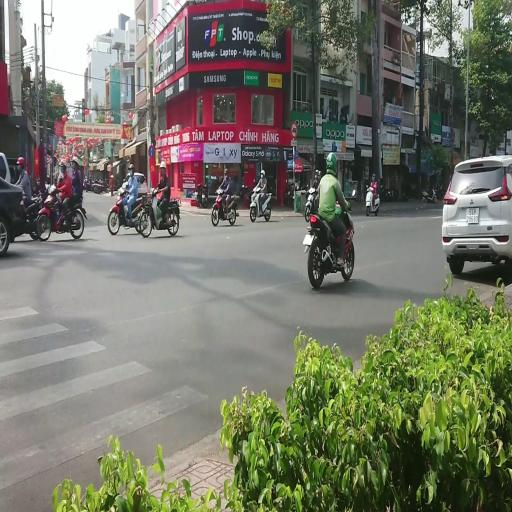bikes: (303, 195, 355, 288), (0, 181, 51, 255), (36, 184, 85, 240), (107, 184, 152, 236), (138, 188, 181, 237), (23, 190, 51, 240), (245, 185, 272, 222), (211, 188, 237, 226), (303, 187, 319, 222), (365, 184, 380, 216), (193, 182, 208, 208), (422, 187, 437, 203), (92, 178, 108, 193), (83, 176, 90, 192)
helmet: (326, 152, 337, 175), (58, 159, 67, 169), (314, 169, 322, 180), (16, 156, 25, 165), (71, 156, 79, 166), (48, 184, 56, 194), (128, 164, 134, 174), (160, 160, 166, 168), (58, 174, 64, 182), (36, 174, 40, 186), (118, 187, 124, 195), (83, 177, 88, 186), (216, 188, 223, 194), (373, 182, 378, 189), (352, 189, 356, 197), (260, 170, 265, 176), (371, 174, 376, 180), (224, 168, 228, 175), (46, 175, 50, 182), (315, 169, 319, 175), (84, 177, 88, 182), (110, 174, 114, 179), (366, 184, 368, 189)
